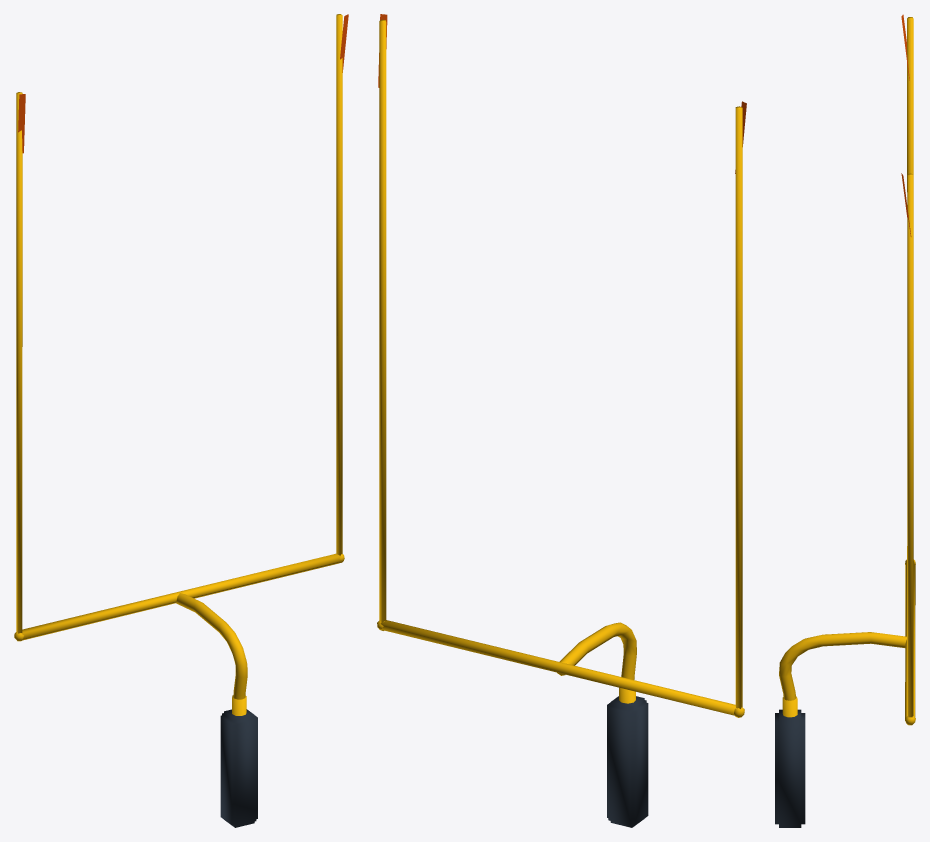
The model's file is goalpost_college_lod1.glb.
3 renders of one model, left to right at view 1: azimuth 30°, elevation 25°; view 2: azimuth 150°, elevation 25°; view 3: azimuth 270°, elevation 25°, orthographic. The views are drawn at different scales.
Parts seen in each view (by area): view 1: goalpost_college_lod1; view 2: goalpost_college_lod1; view 3: goalpost_college_lod1.
Part boxes in pixels (x1,y1,x2,y2): goalpost_college_lod1: (14, 14, 348, 827); goalpost_college_lod1: (377, 14, 746, 827); goalpost_college_lod1: (775, 14, 915, 827).
Bounding box in the file's own units: 5.83 × 12.23 × 2.14.
